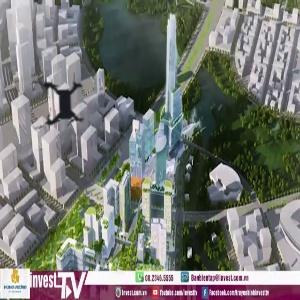drone: (5, 49, 118, 162)
